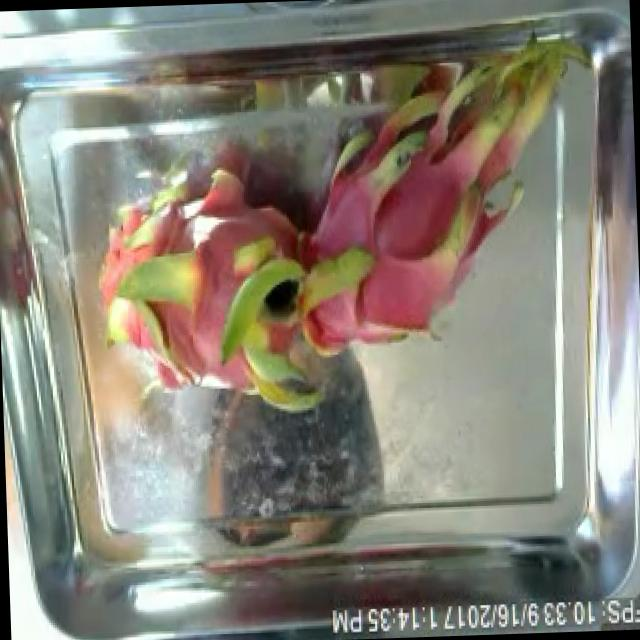Fruit: (117, 187, 210, 280)
